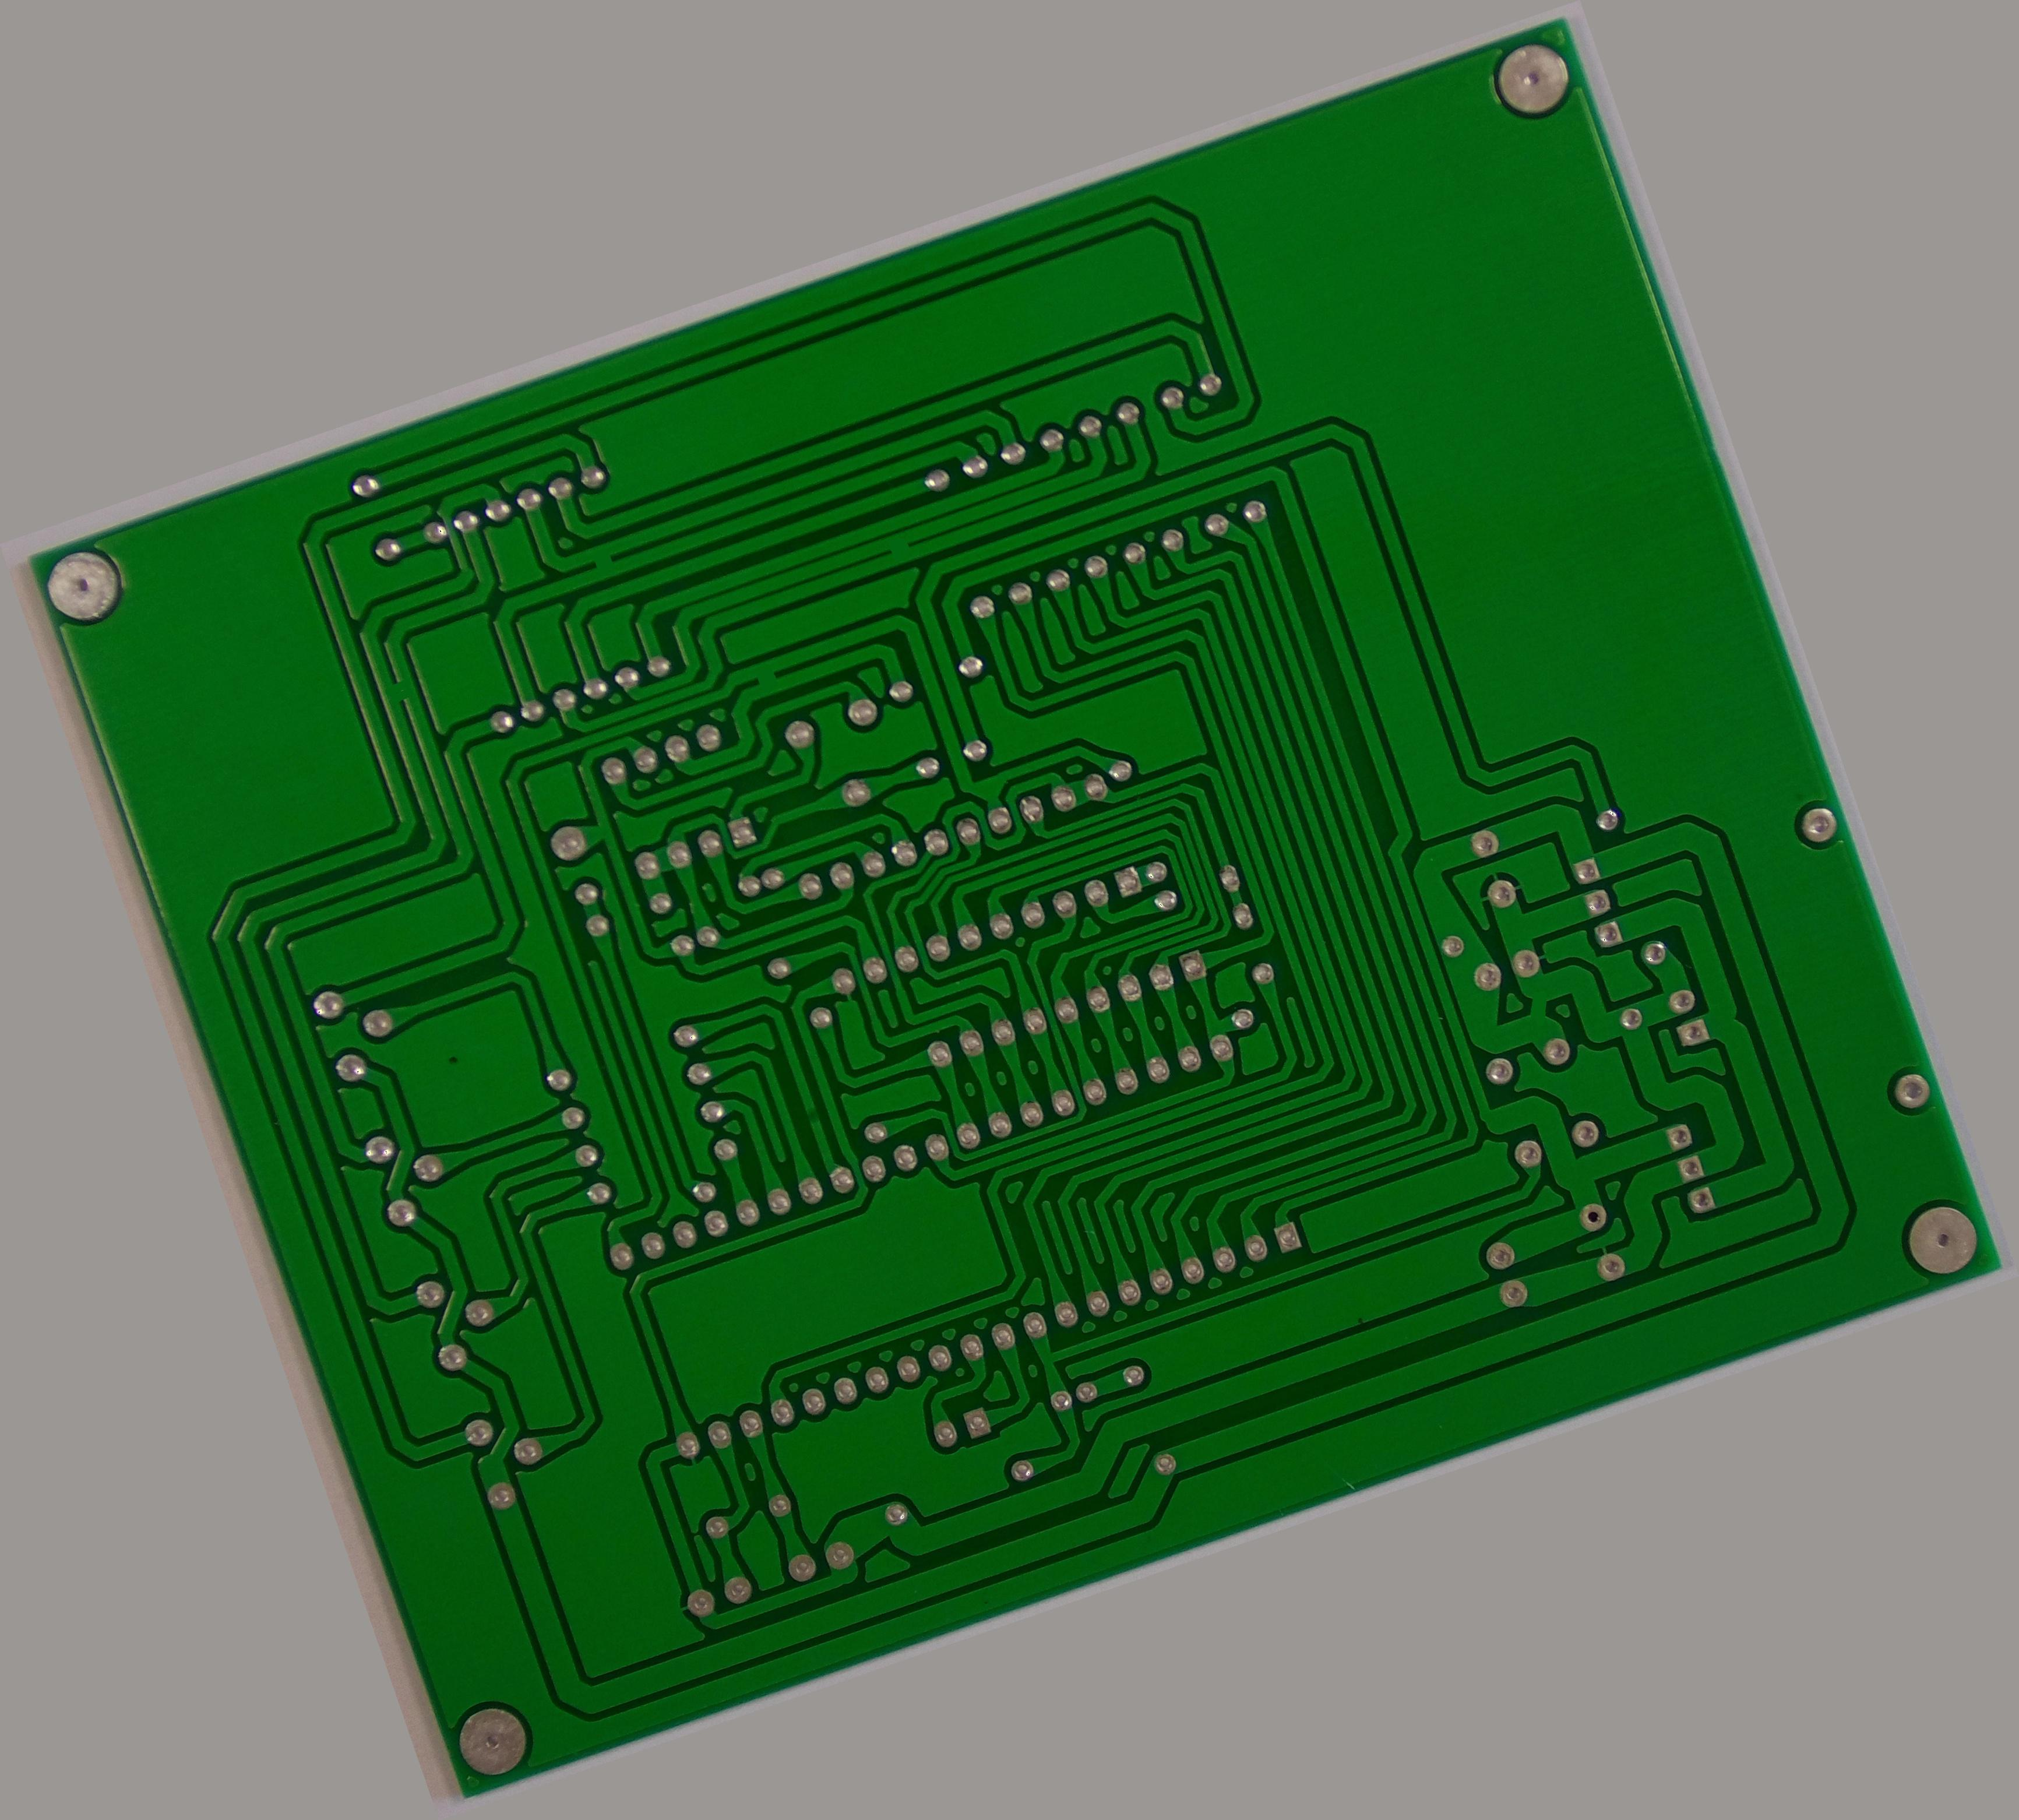short: (576, 536, 629, 587), (1510, 980, 1563, 1031), (873, 527, 927, 573), (744, 654, 792, 703), (374, 668, 423, 713)
